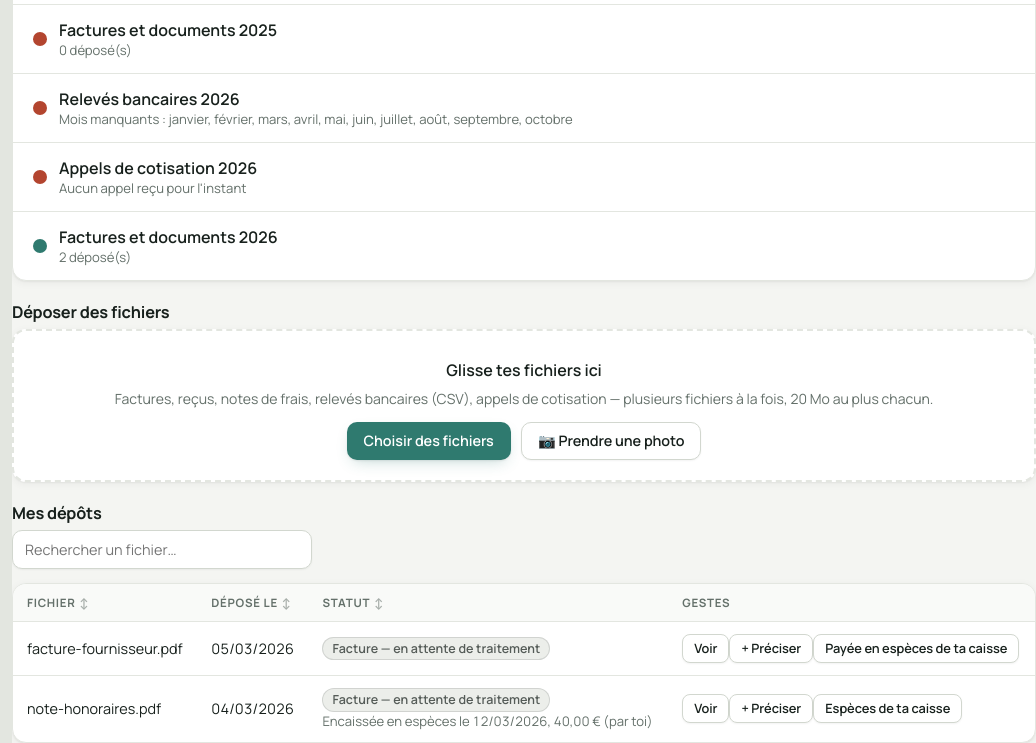
Test: le drapeau levé › … et sur une pièce que la liste ne porte pas, « Corriger » s’offre comme hier
(page scrolled)
Check: the text "facture-fournisseur.pdf" is shown, box [13, 621, 197, 676]
Click the button "Espèces de ta caisse" at (888, 709), box [813, 694, 962, 723]
(page scrolled)
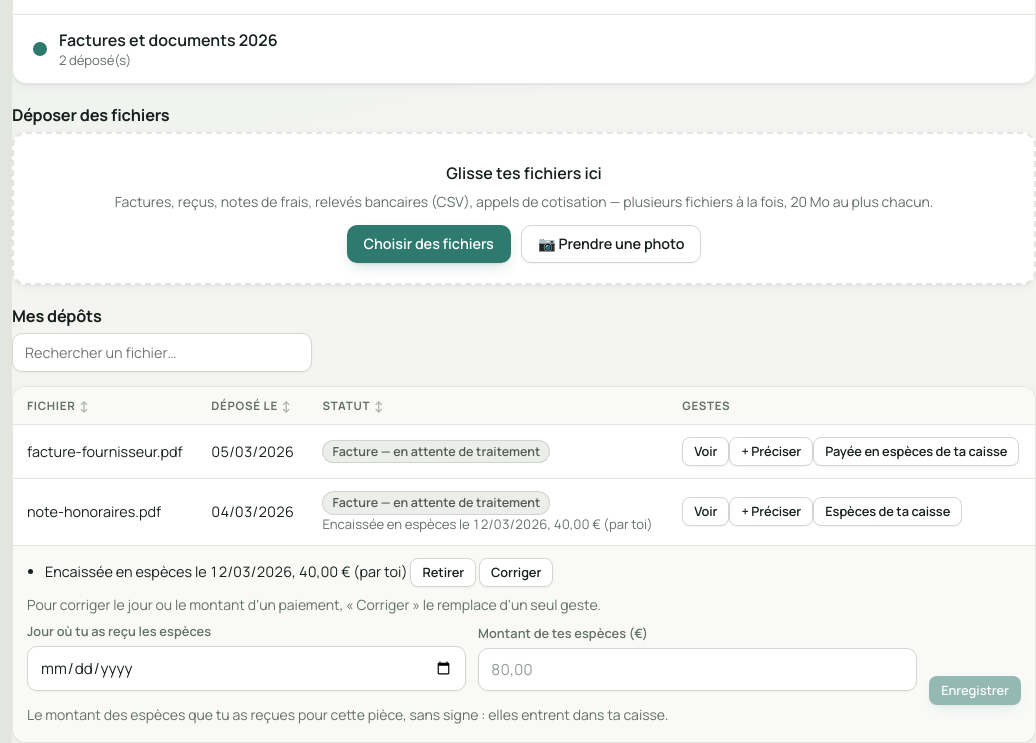
Check: the button "Corriger" is shown, box [479, 558, 553, 587]
